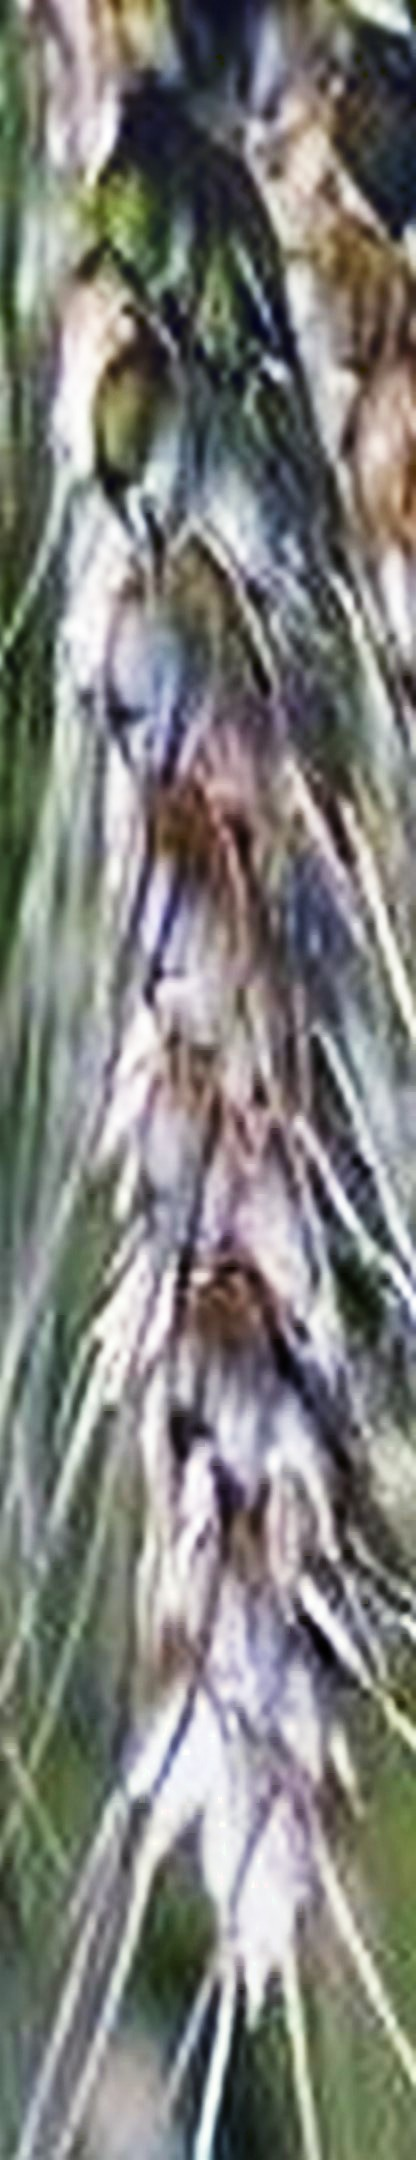Wheat scab: (28, 134, 406, 1919)
